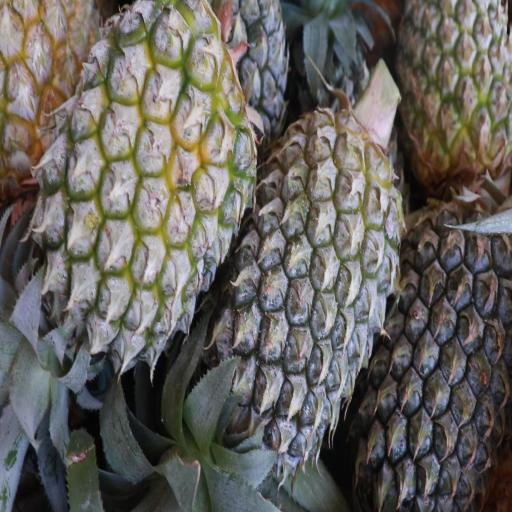------------------------------: (46, 12, 251, 344), (399, 0, 511, 183)
